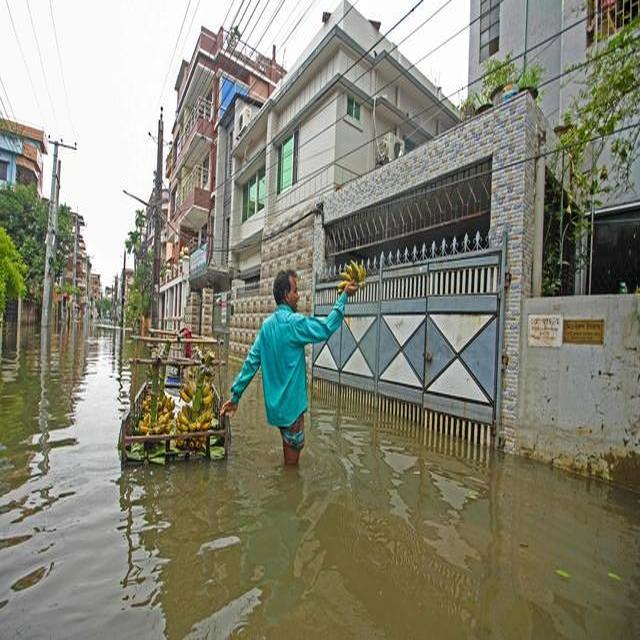Person-RiskLevel2: (224, 267, 359, 480)
